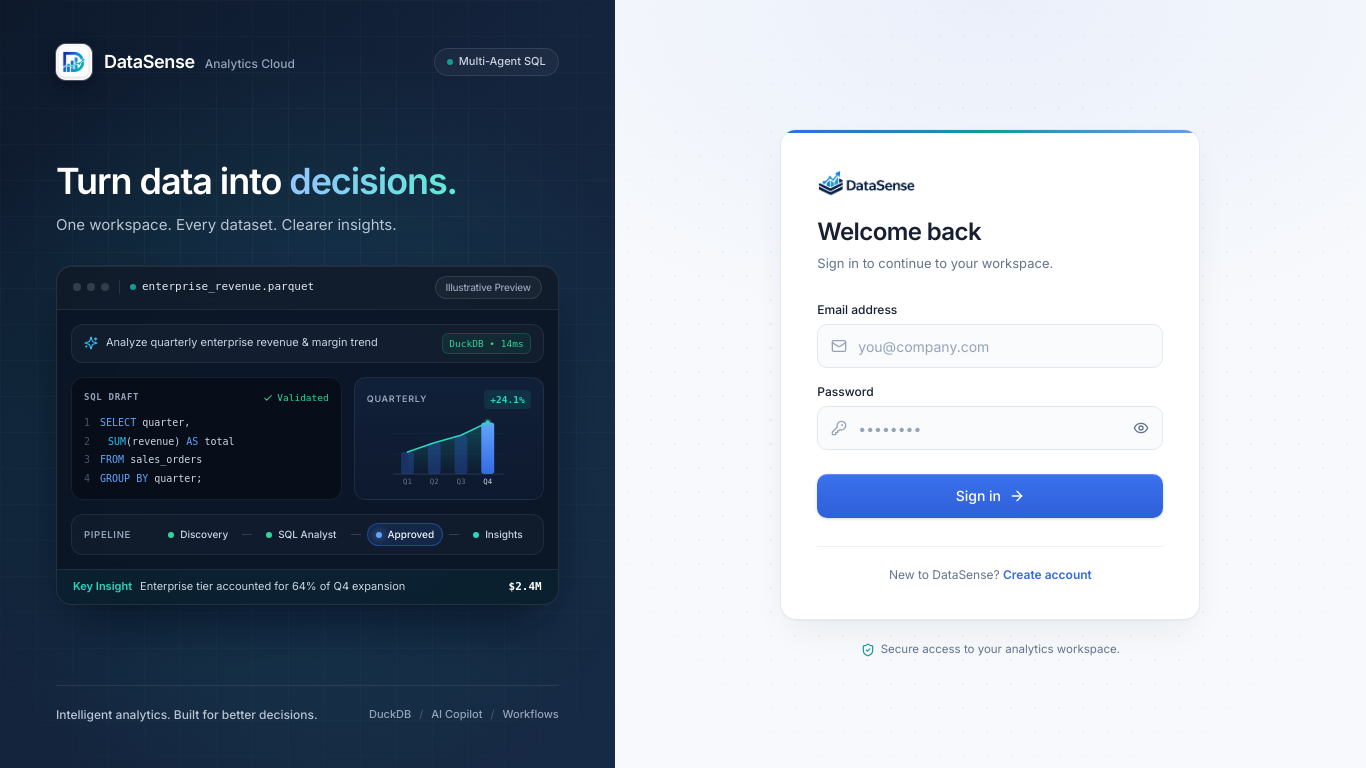
Test: Premium Split-Screen LoginPage Redesign › performs inline email and password validation with accessible attributes
This screenshot has width=1366, height=768.
Note: Invalid email format
Step 1. Type "not-an-email" into the field labelled "Email address" → [990, 346], box [817, 324, 1163, 368]
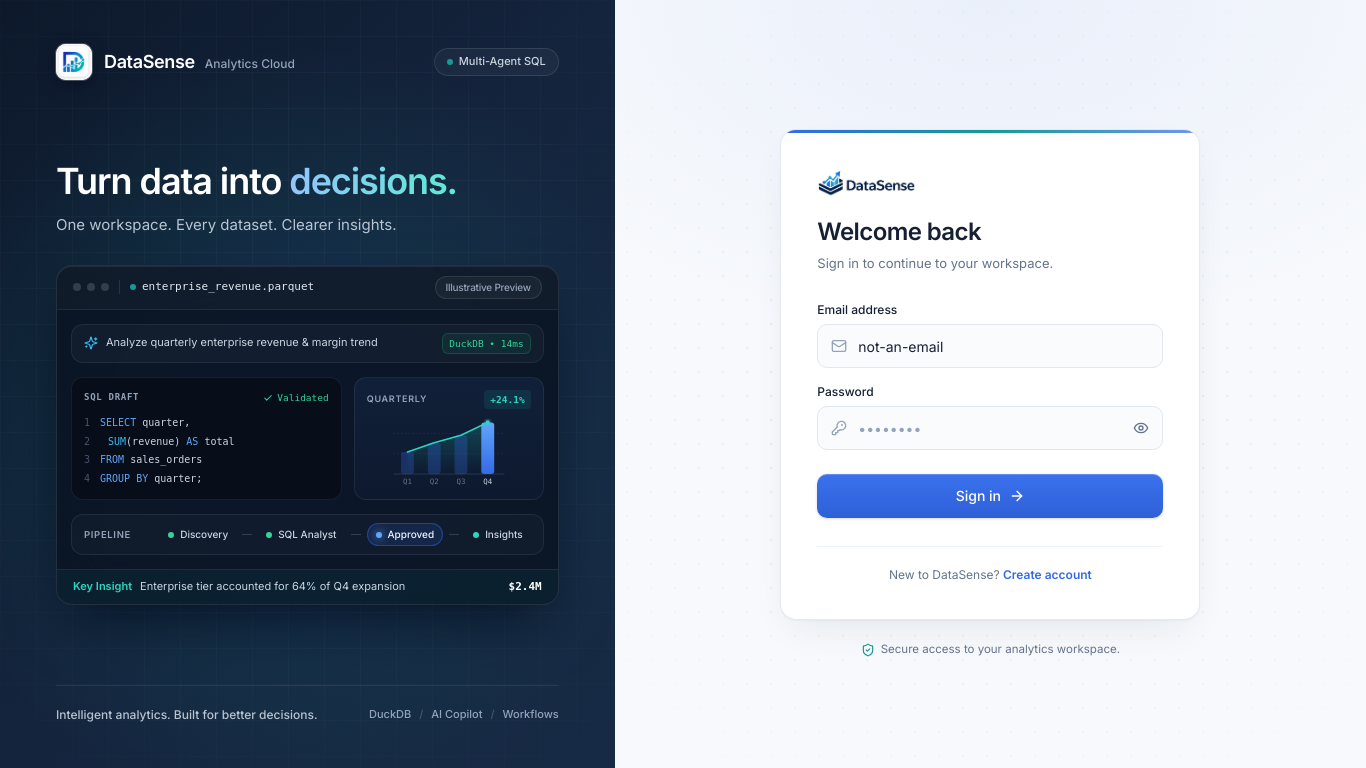
Step 2. Click the button "Sign in" → [990, 496], box [817, 474, 1163, 518]
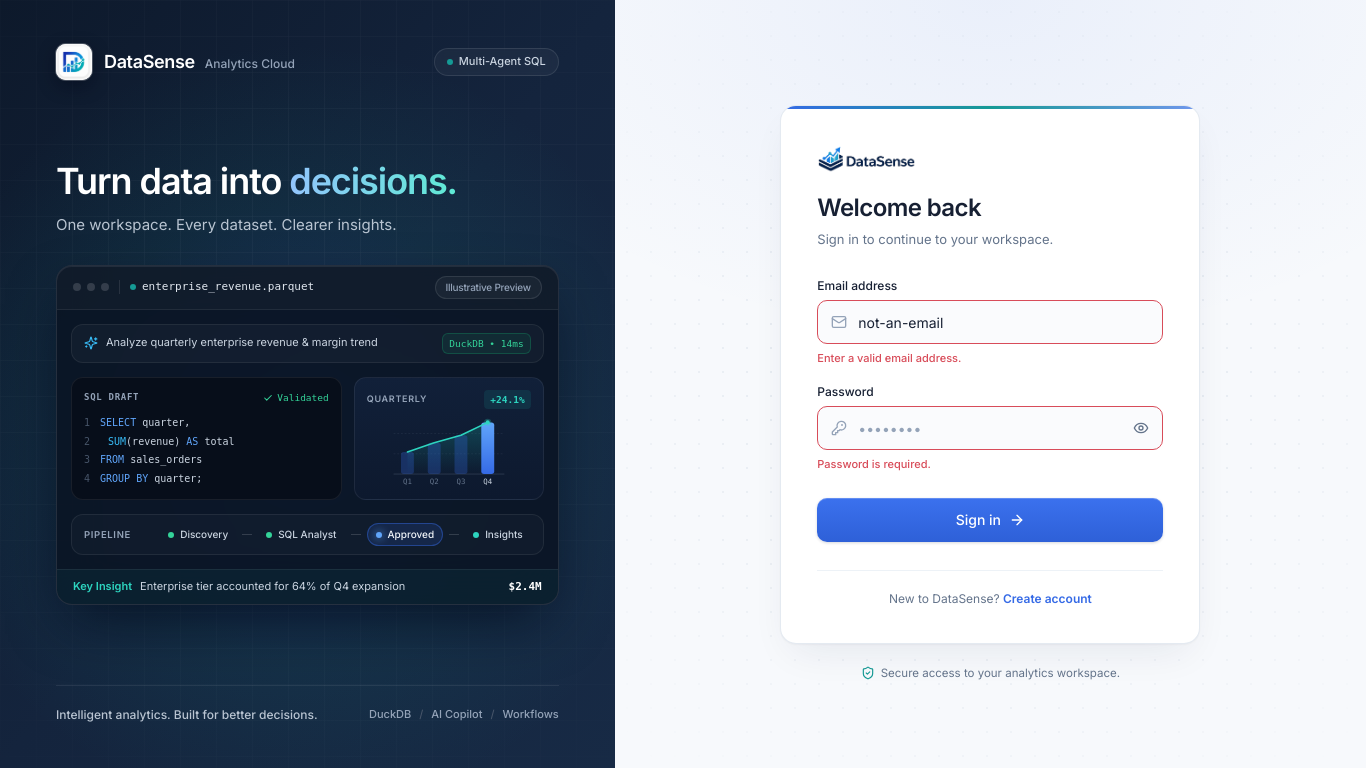
Expected: the text "Enter a valid email address." is shown, [817, 351, 961, 365]
Expected: the text "Password is required." is shown, [817, 457, 931, 471]
